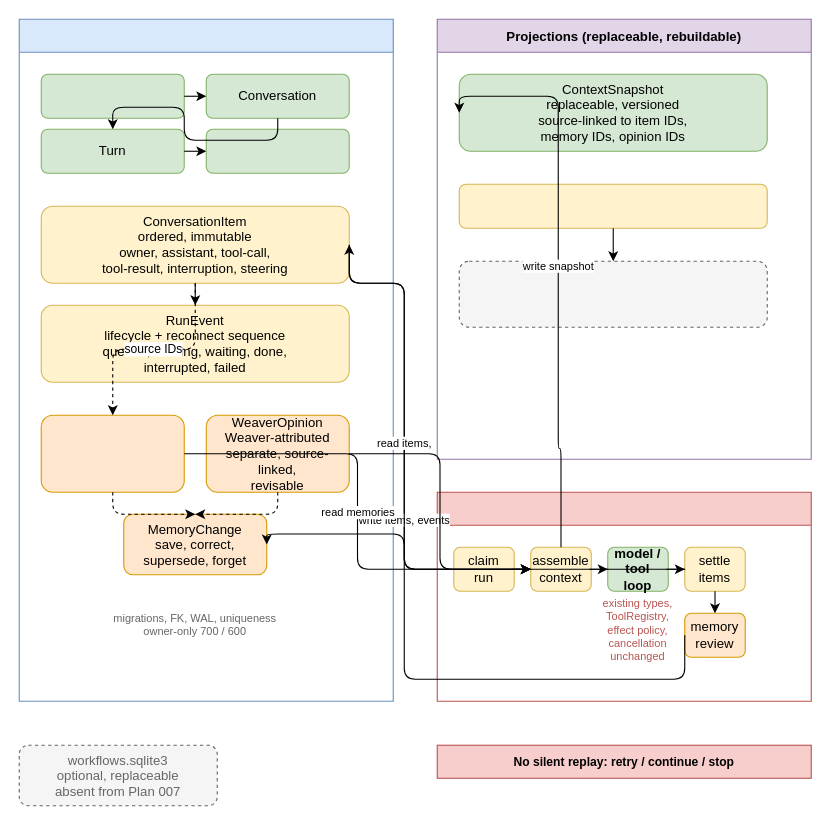
Some shapes in this 831 by 825 pixel diagram are drawn without their labels. Here are the shapes that lost their labels. From the top down, the box of each, then its label:
(40, 73, 184, 118): Relationship
(205, 128, 349, 173): Run
(458, 183, 767, 228): CompiledKnowledgeProjector
(458, 260, 767, 327): .weaver/projections/wiki/ private, rebuildable, optional never canonical
(18, 18, 393, 701): Canonical (.weaver/state/weaver.sqlite3)
(40, 414, 184, 492): RelationshipMemory owner-attributed preferences, theories, jokes, shared history
(436, 491, 811, 701): Run Coordinator (direct, Weaver-owned)
